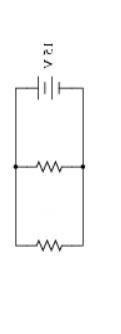resistor: (24, 227, 69, 259), (25, 150, 69, 179)
